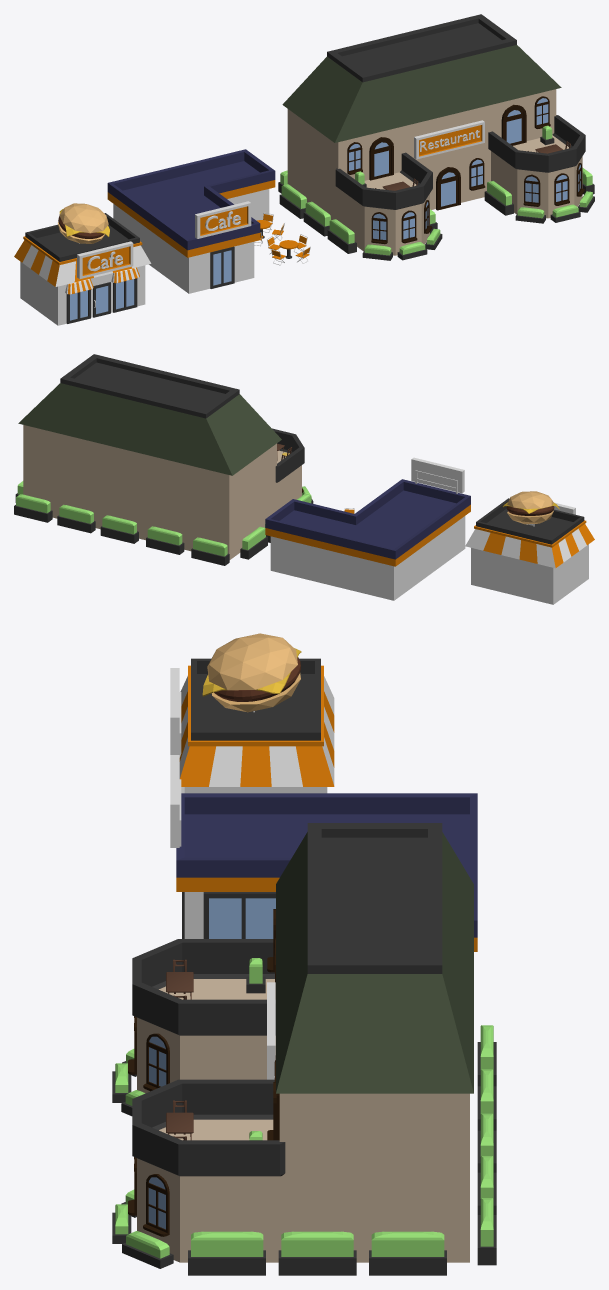
Rendered from fastfood.fbx.
The picture shows the model from 3 angles, top to bottom: view 1: azimuth 30°, elevation 25°; view 2: azimuth 150°, elevation 25°; view 3: azimuth 270°, elevation 25°; orthographic projection. The views are drawn at different scales.
Visible parts, largest first — view 1: Cube, cafe_tier2, cafe_tier1; view 2: Cube, cafe_tier2, cafe_tier1; view 3: Cube, cafe_tier2, cafe_tier1.
Part boxes in pixels (x1=…): Cube: x1=278, y1=14, x2=594, y2=260; cafe_tier2: x1=107, y1=149, x2=310, y2=293; cafe_tier1: x1=14, y1=203, x2=151, y2=325; Cube: x1=14, y1=354, x2=313, y2=565; cafe_tier2: x1=265, y1=457, x2=470, y2=600; cafe_tier1: x1=465, y1=491, x2=594, y2=604; Cube: x1=112, y1=823, x2=496, y2=1275; cafe_tier2: x1=170, y1=755, x2=477, y2=951; cafe_tier1: x1=170, y1=633, x2=334, y2=793.
Size of the model in its own units: 2485 by 622 by 808.
